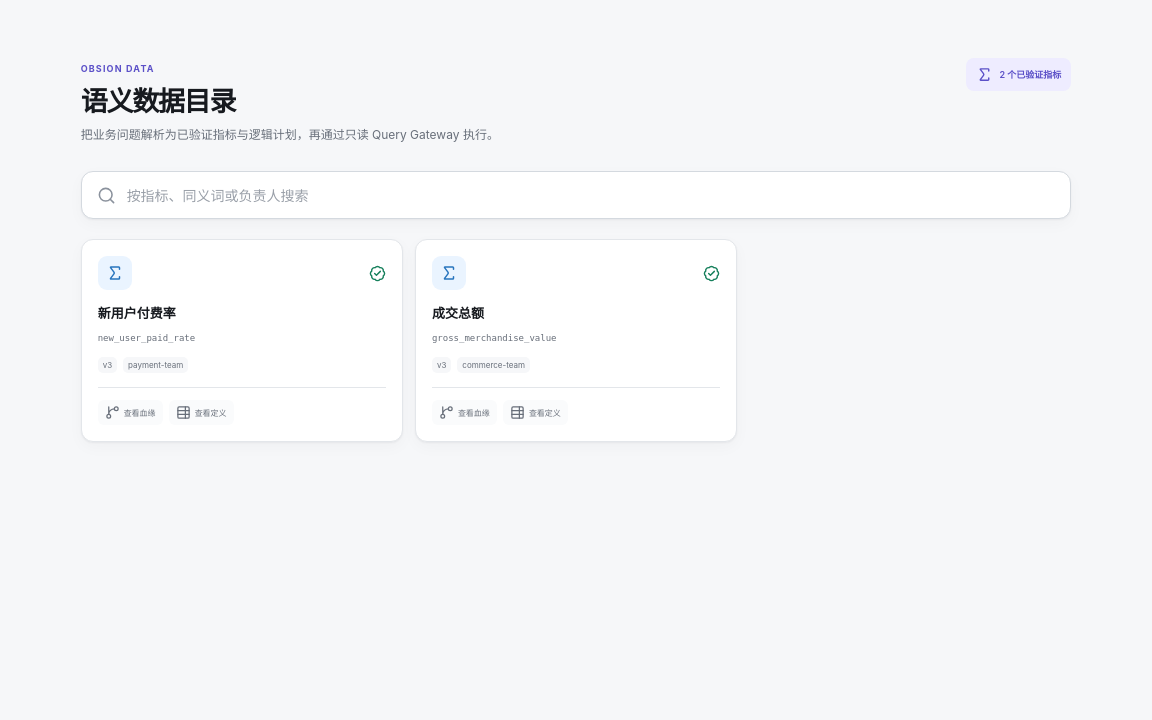
Test: DataView interactions › surfaces a lineage failure without inventing a graph
The width and height of the screenshot is (1152, 720).
Expected: the heading "新用户付费率" is shown, top-left (98, 305), bottom-right (176, 321)
Click the button "查看血缘" below "payment-team": (130, 413) top-left (98, 400), bottom-right (163, 425)
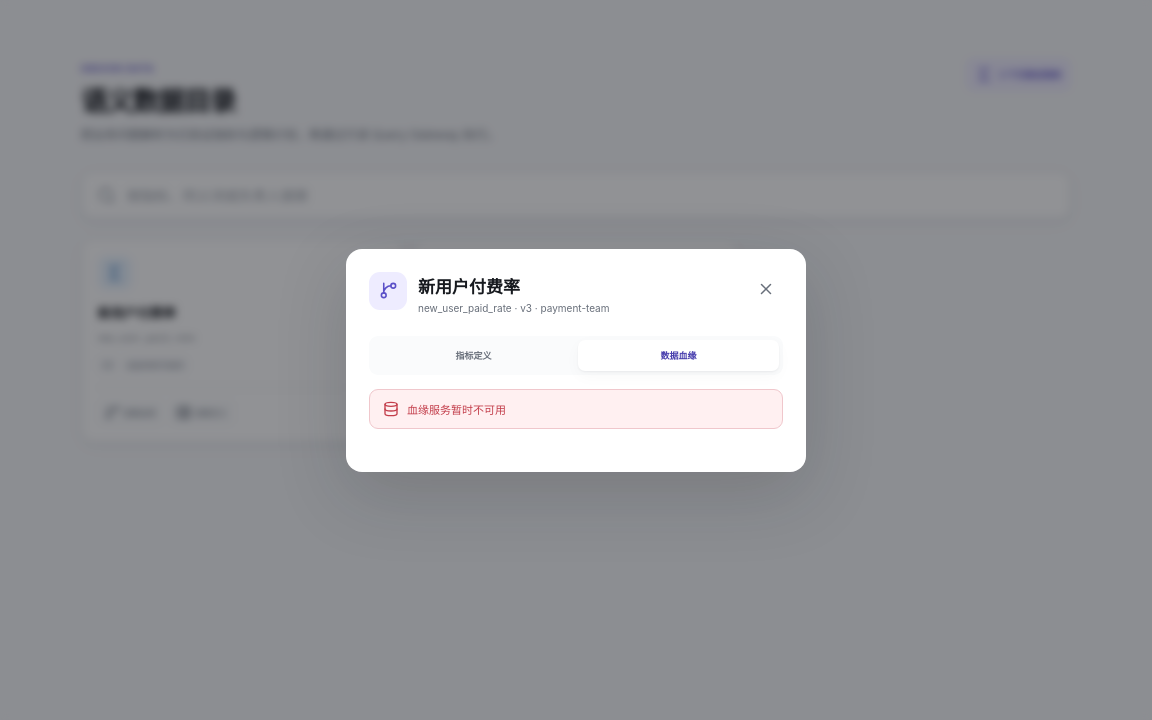
Expected: the text "血缘服务暂时不可用" is shown, top-left (369, 388), bottom-right (783, 428)
